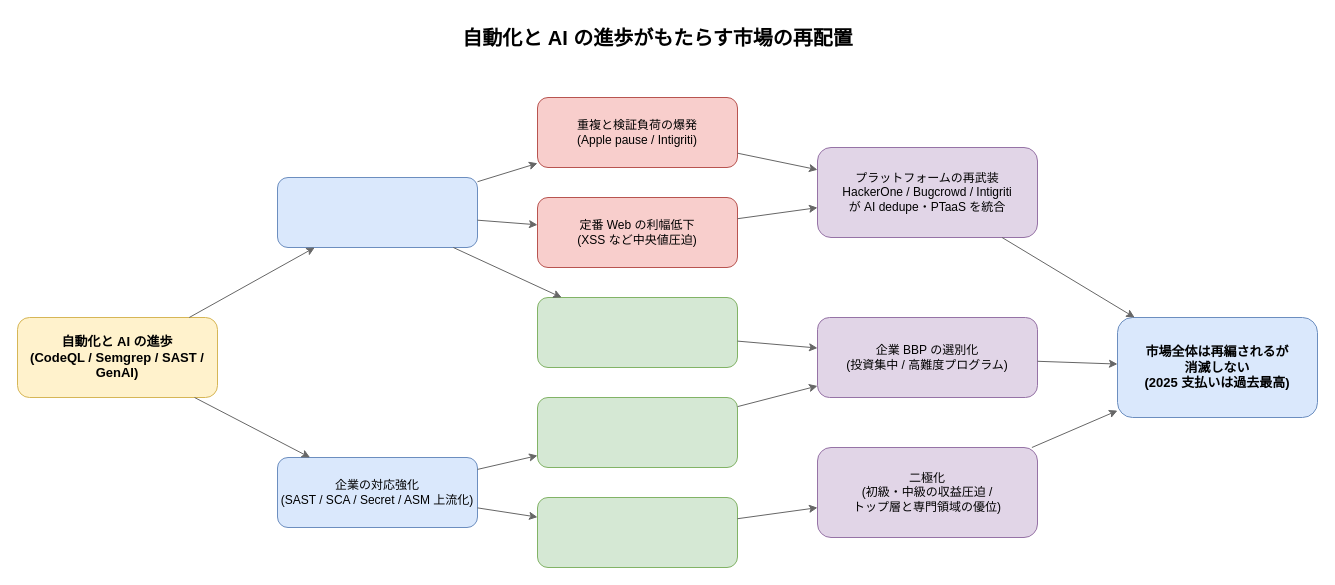
This 1335x585 diagram has some shape labels left out. The box of each missing label's shape, as (x1, y1, x2, y2) in pixels:
Mobile / Kernel / Crypto / AIアプリ の exploit chain に報酬集中: (536, 396, 738, 468)
他コストの低下と圧縮 (発見の母数増・recon 自動化): (276, 176, 478, 248)
多層化したサービス購買 VDP + BBP + PTaaS + Red Team: (536, 496, 738, 568)
高難度の残存価値が上昇 (認可 / IDOR / Business Logic): (536, 296, 738, 368)
